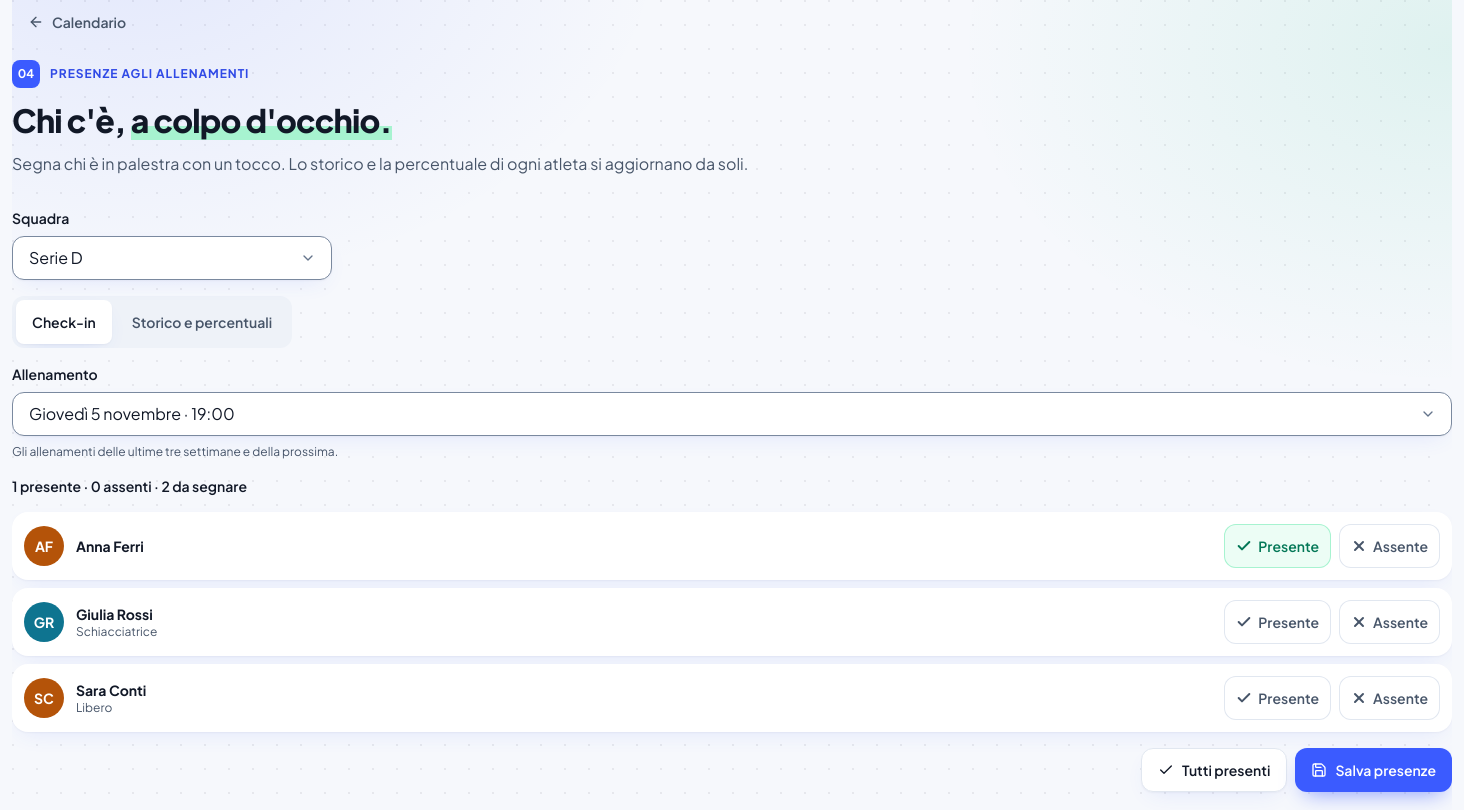
Test: PresenzePage check-in › switches to another training of the team
The width and height of the screenshot is (1464, 810).
Step 1. Select "Giovedì 12 novembre · 19:00" in the dropdown labelled "Allenamento" → (732, 414), box [12,392,1452,436]
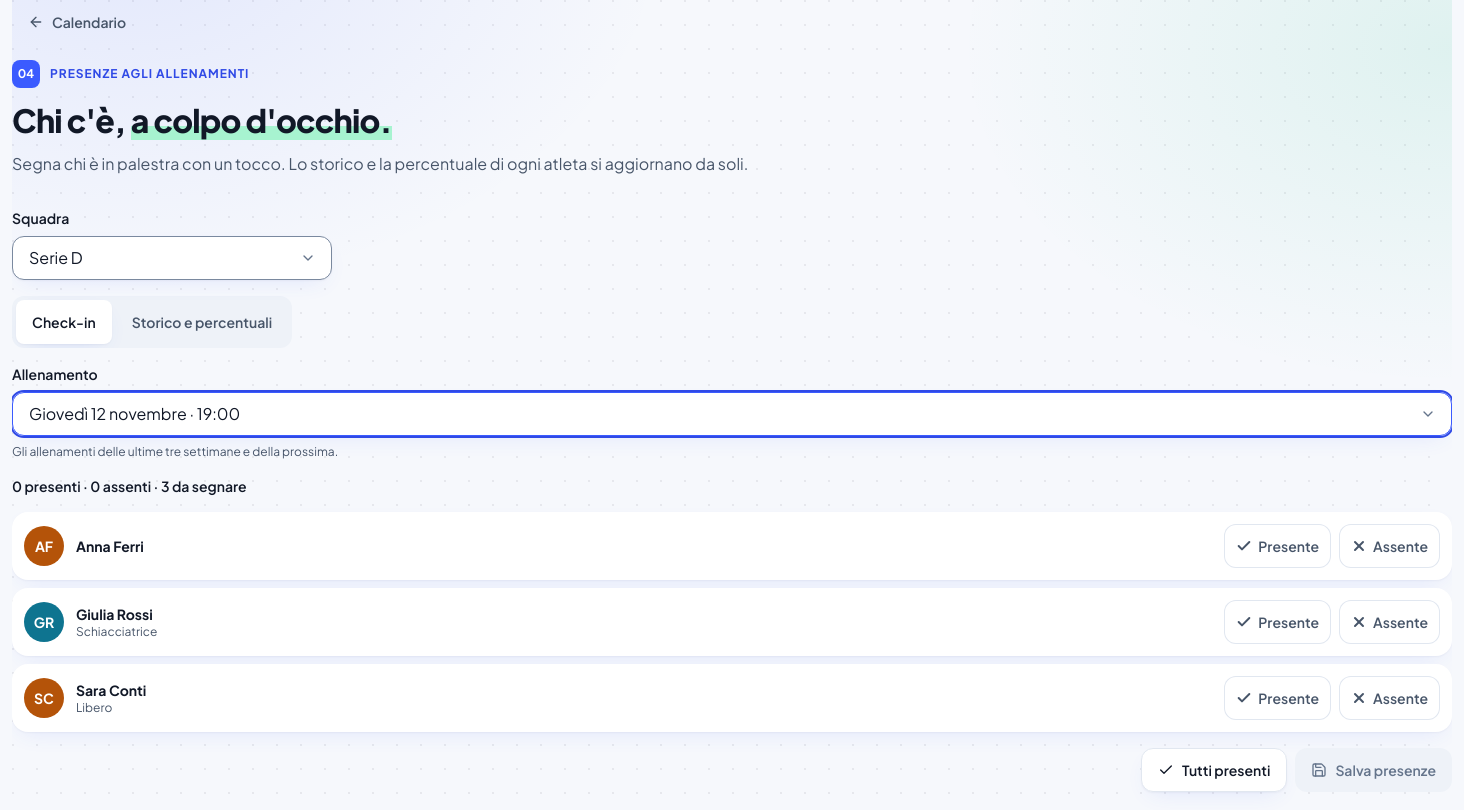
Check: the text "0 presenti · 0 assenti · 3 da segnare" is shown, box [12,477,247,495]
